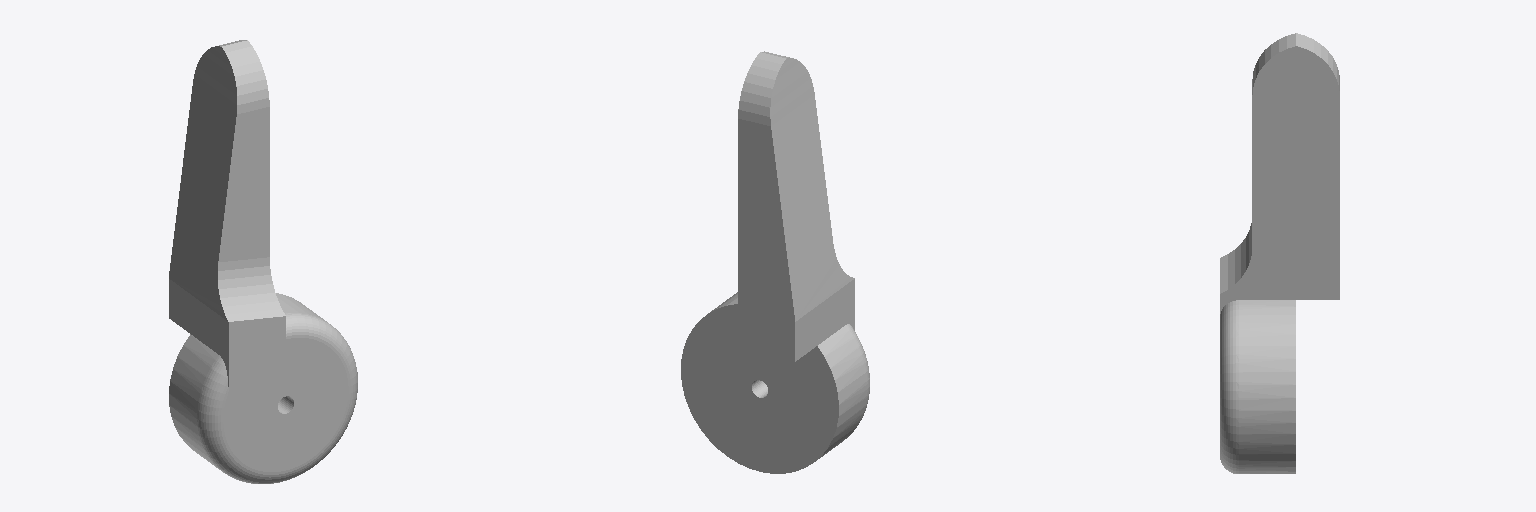
Rendered from tool gripper2 simple.OBJ.
3 renders of one model, left to right at view 1: azimuth 30°, elevation 25°; view 2: azimuth 150°, elevation 25°; view 3: azimuth 270°, elevation 25°, orthographic.
Parts seen in each view (by area): view 1: /ambf/env/psm2/tool_gripper2_simple; view 2: /ambf/env/psm2/tool_gripper2_simple; view 3: /ambf/env/psm2/tool_gripper2_simple.
Boxes of the visible parts, x1,y1,x2,y2 form: /ambf/env/psm2/tool_gripper2_simple: [169, 40, 357, 483]; /ambf/env/psm2/tool_gripper2_simple: [681, 51, 869, 473]; /ambf/env/psm2/tool_gripper2_simple: [1220, 33, 1339, 473].
Size of the model in its own units: 0.0048 by 0.0122 by 0.0032.